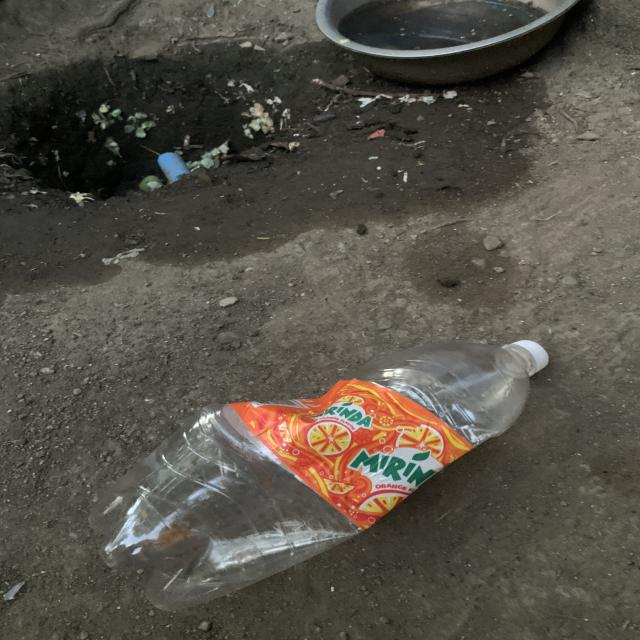Bottle: (90, 340, 549, 608)
